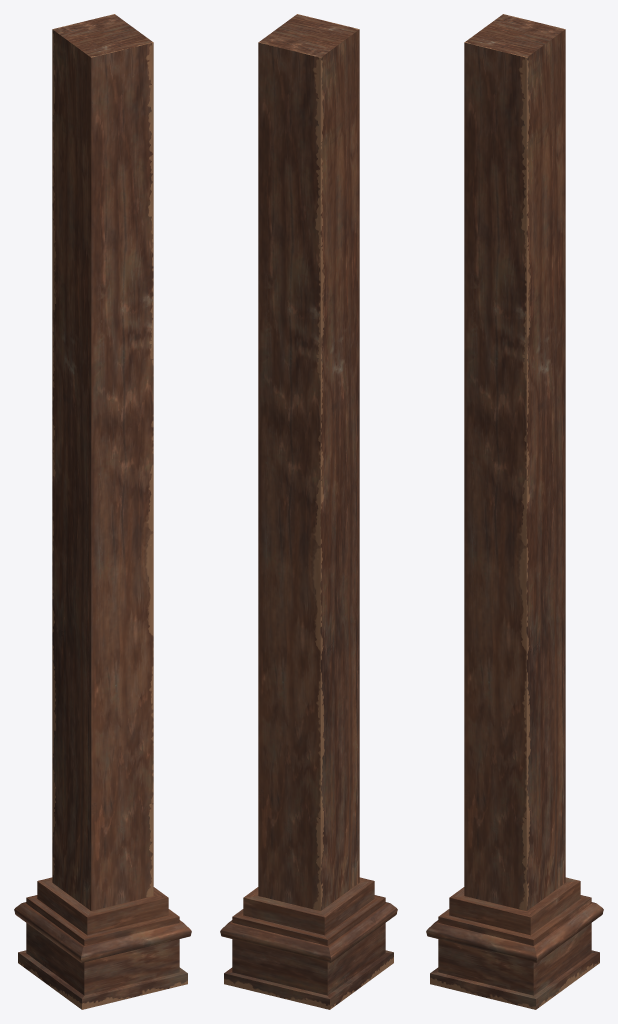
The model's file is Kit_WoodColonTile.fbx.
The picture shows the model from 3 angles, left to right: view 1: azimuth 30°, elevation 25°; view 2: azimuth 150°, elevation 25°; view 3: azimuth 330°, elevation 25°; orthographic projection.
Visible parts, largest first — view 1: Kit_WoodColonTile; view 2: Kit_WoodColonTile; view 3: Kit_WoodColonTile.
Part boxes in pixels (left/top/right/bottom): Kit_WoodColonTile: left=14, top=14, right=191, bottom=1009; Kit_WoodColonTile: left=220, top=14, right=397, bottom=1009; Kit_WoodColonTile: left=426, top=14, right=603, bottom=1009.
Size of the model in its own units: 19.48 by 157 by 20.38.
